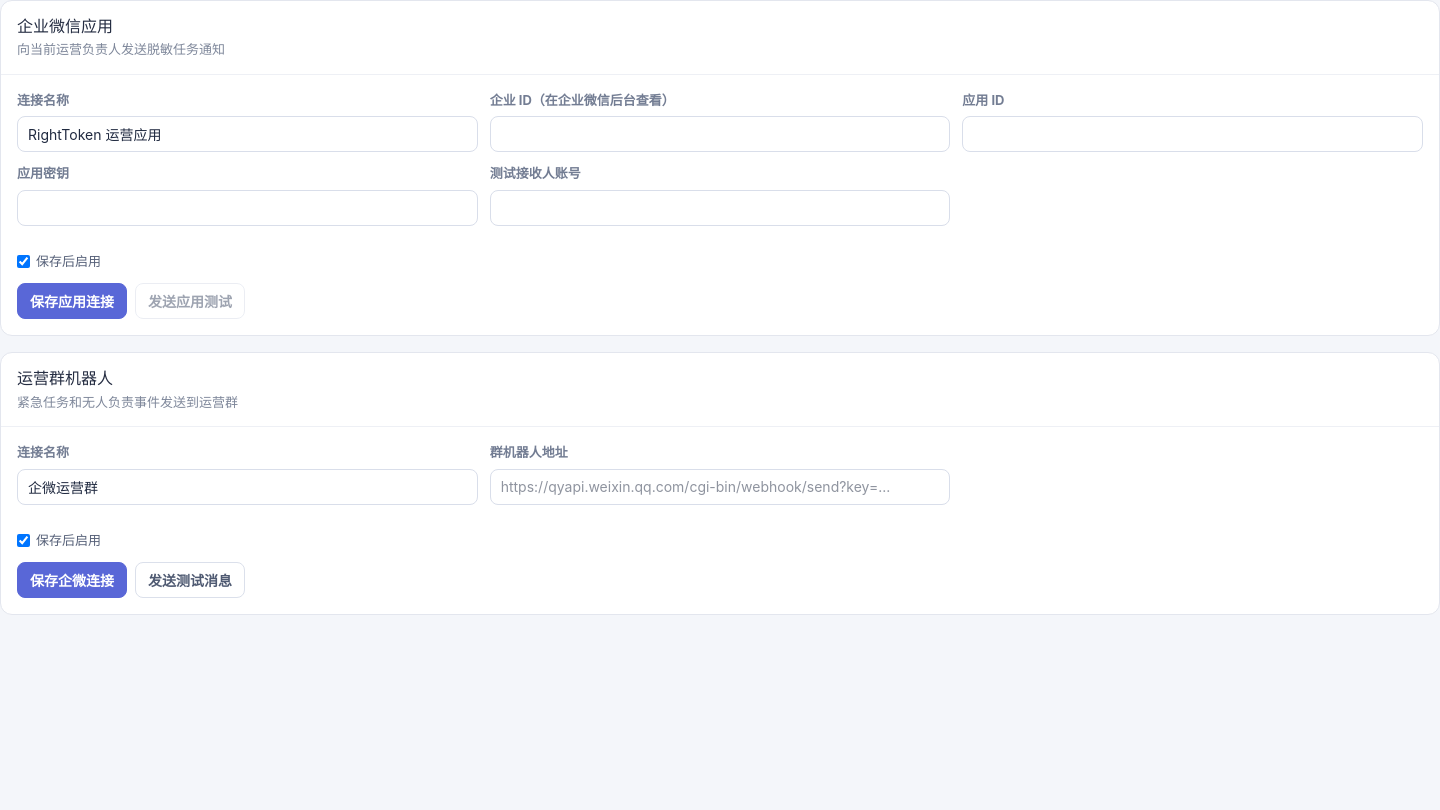
Test: WecomSettingsForm › saves the webhook without retaining it in the form
The width and height of the screenshot is (1440, 810).
In the field labelled "群机器人地址": {"x": 720, "y": 487} [490,469,950,505], type "https://qyapi.weixin.qq.com/cgi-bin/webhook/send?key=test-key"
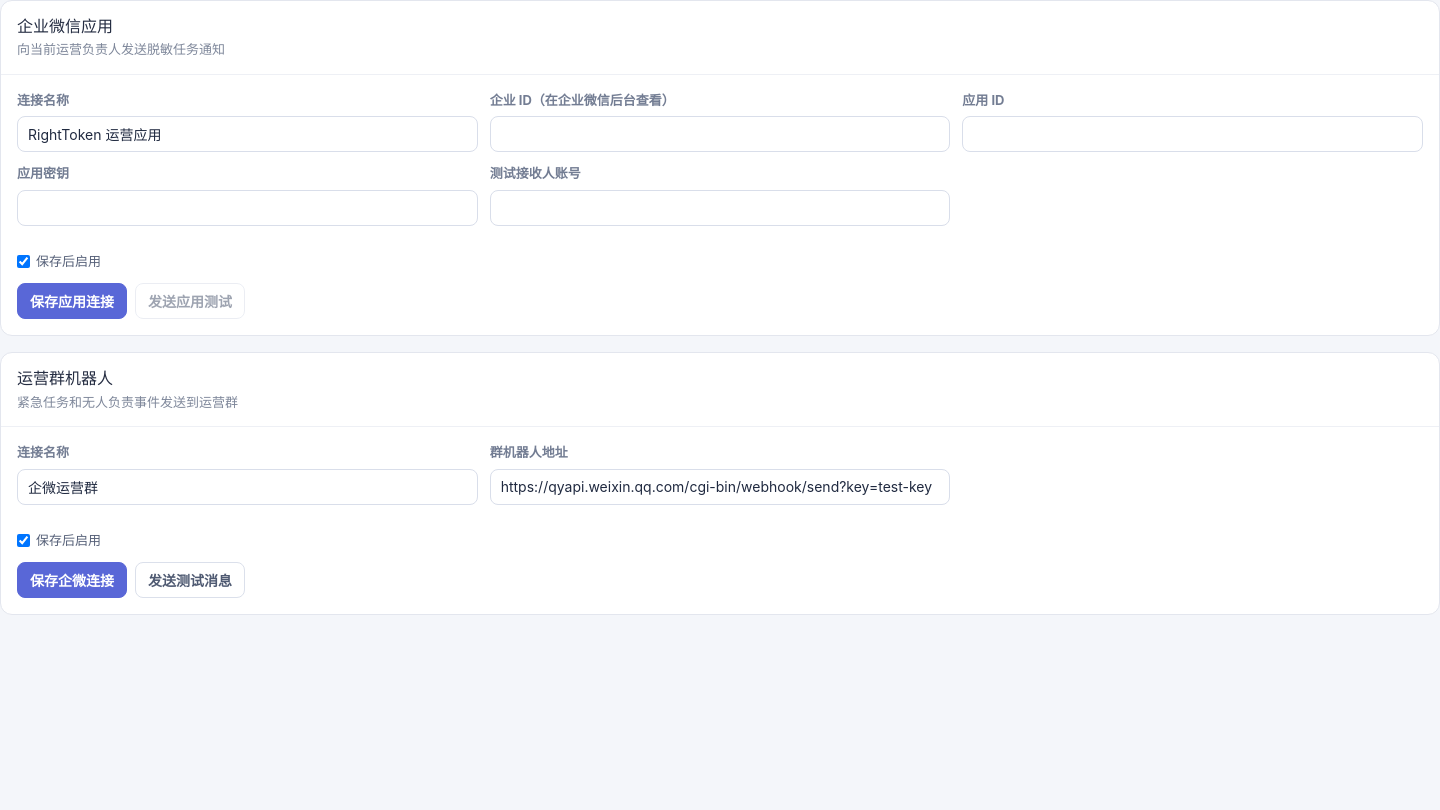
Click the button "保存企微连接": {"x": 72, "y": 580} [17,562,127,598]
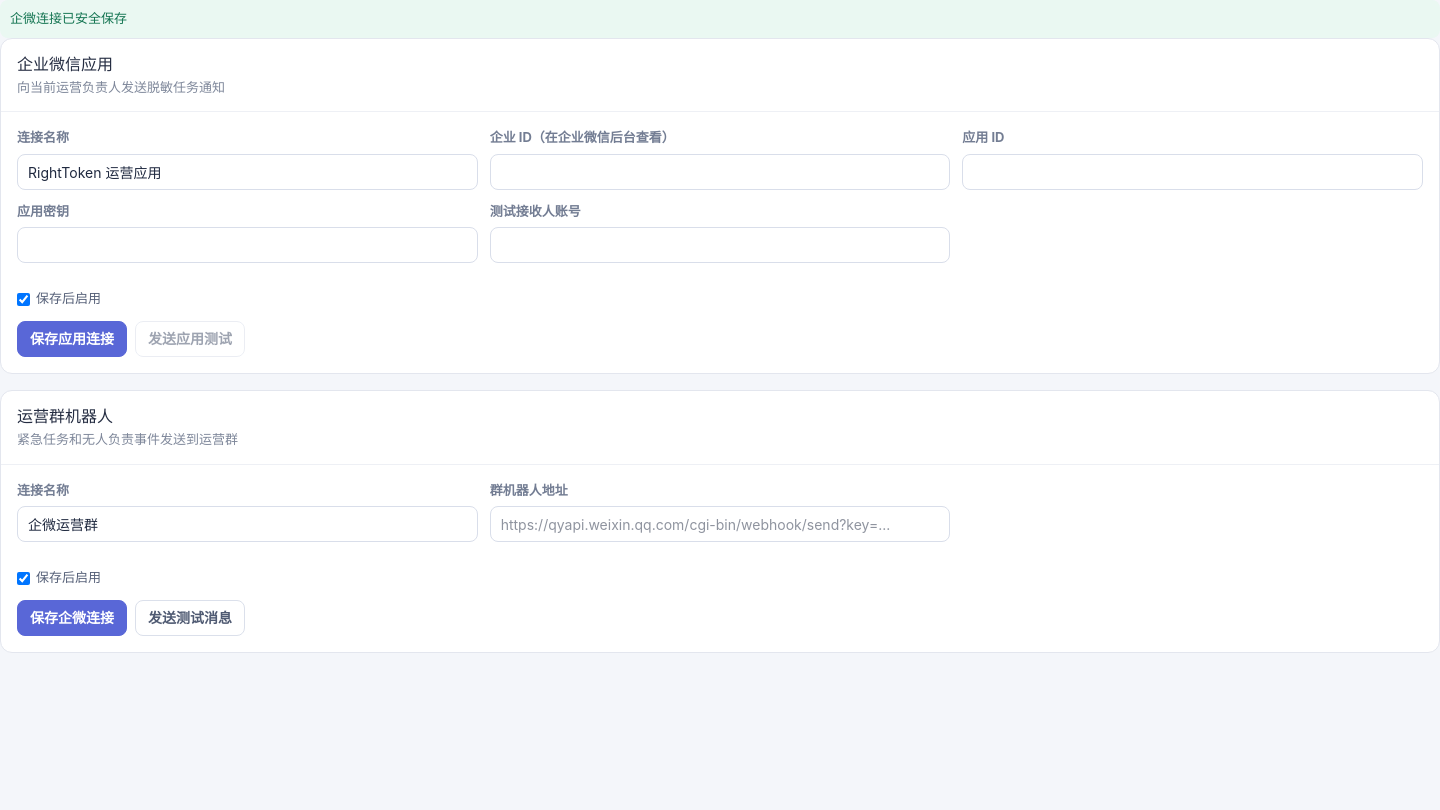
Result: the text "企微连接已安全保存" is shown at [0,0,1439,38]
Result: the field labelled "群机器人地址" is empty at [490,506,950,542]
